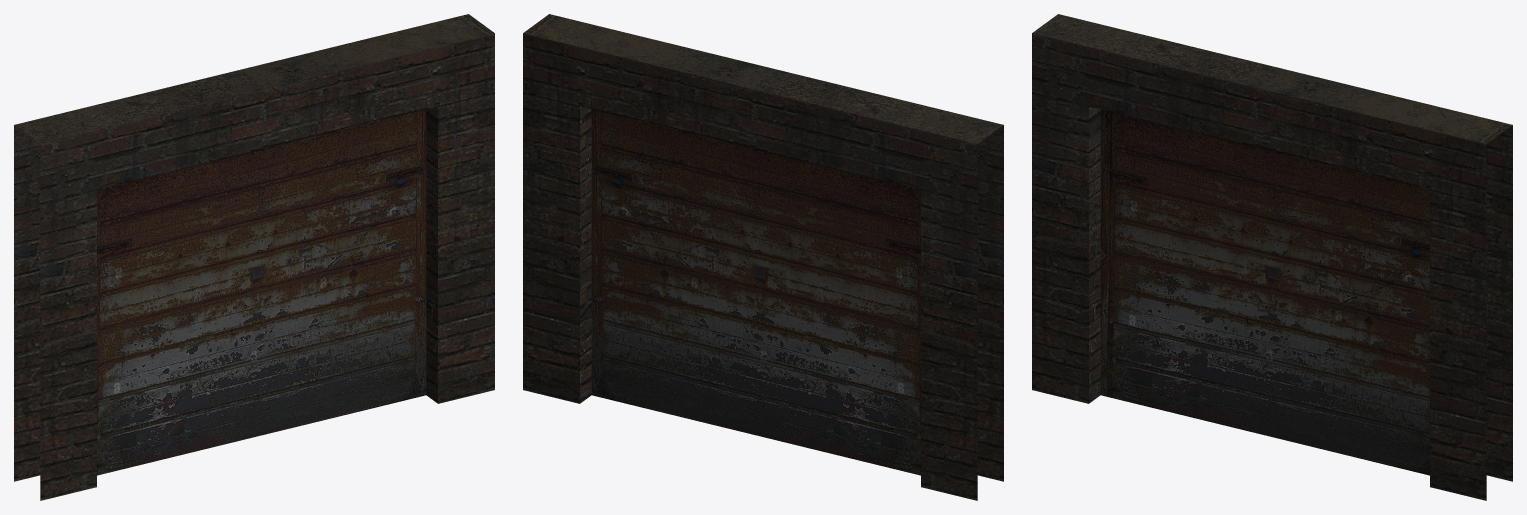
Rendered from garage_door_frame_hs_2.obj.
3 views of the same model, side by side, from view 1: azimuth 30°, elevation 25°; view 2: azimuth 150°, elevation 25°; view 3: azimuth 330°, elevation 25° (orthographic).
Visible parts, largest first — view 1: garage_door_hm_7, garage_door_frame_hs_2; view 2: garage_door_hm_7, garage_door_frame_hs_2; view 3: garage_door_hm_7, garage_door_frame_hs_2.
Part boxes in pixels (x1=…): garage_door_hm_7: x1=97, y1=109, x2=426, y2=475; garage_door_frame_hs_2: x1=14, y1=14, x2=494, y2=500; garage_door_hm_7: x1=591, y1=109, x2=920, y2=475; garage_door_frame_hs_2: x1=523, y1=14, x2=1003, y2=500; garage_door_hm_7: x1=1100, y1=109, x2=1429, y2=475; garage_door_frame_hs_2: x1=1032, y1=14, x2=1512, y2=500.
Size of the model in its own units: 4 by 3 by 0.4.
